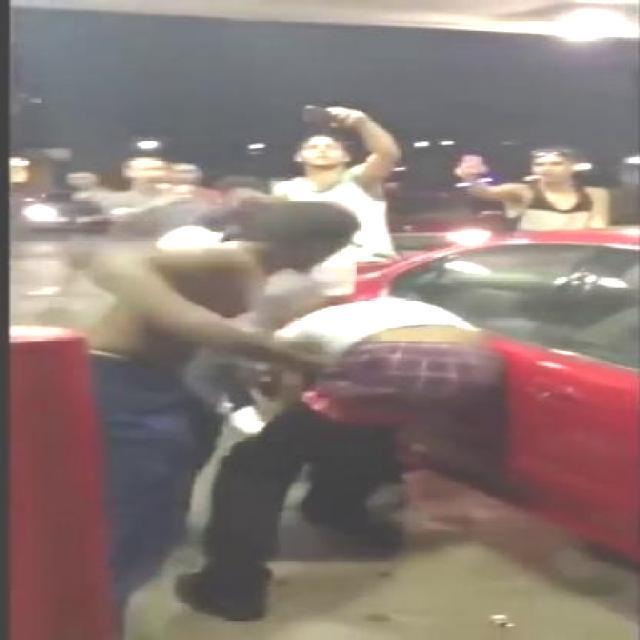fight: (66, 196, 503, 462)
